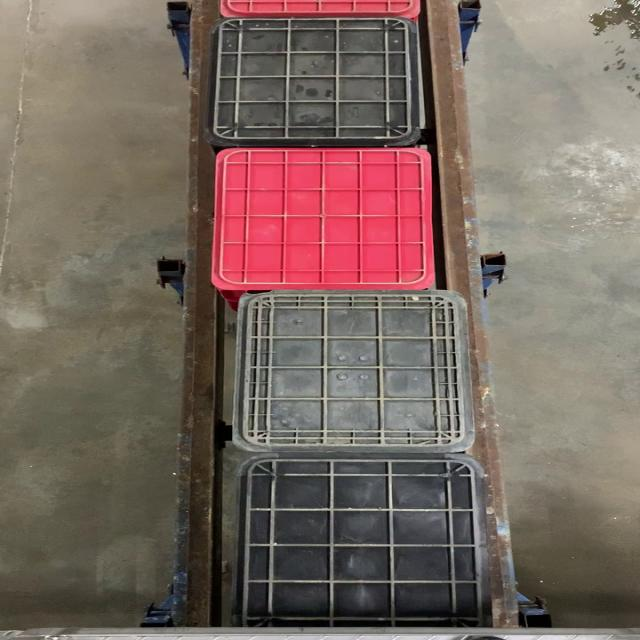Box: (207, 148, 437, 290), (202, 18, 420, 146)
Damaged_box: (224, 292, 480, 452)
